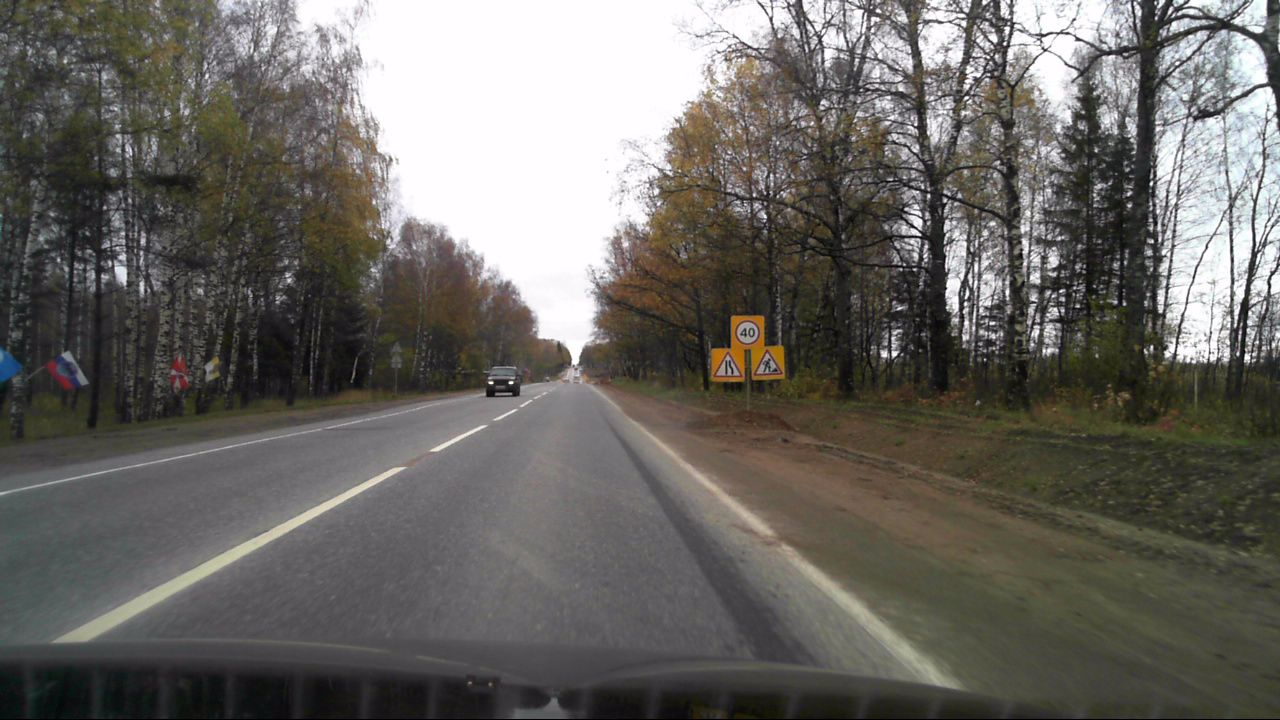speed_warning_40: (731, 315, 764, 348)
